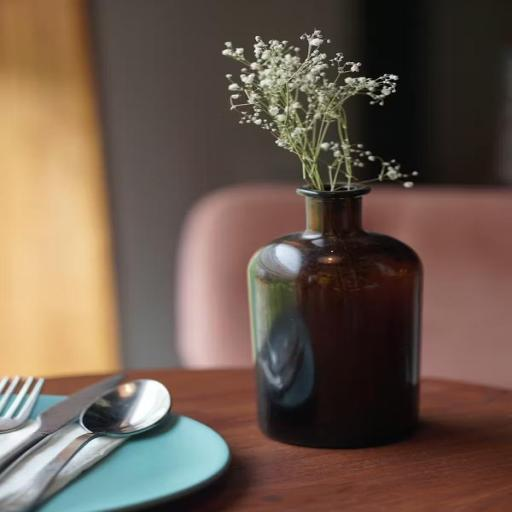bottle: (240, 167, 440, 455)
